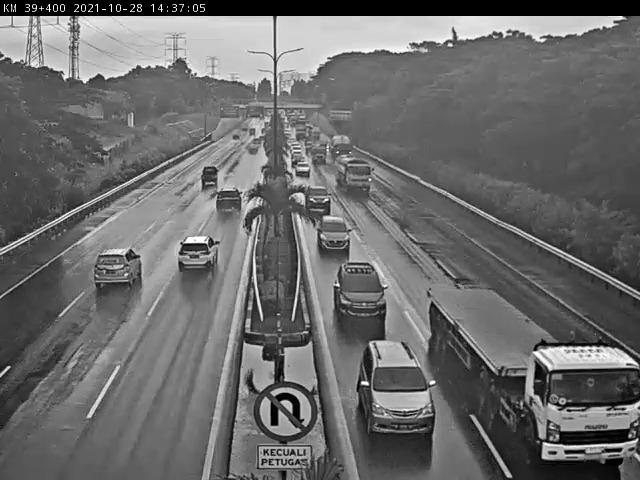big truck: (419, 251, 640, 480), (329, 153, 377, 200), (325, 130, 358, 165)
car: (343, 329, 445, 446), (323, 253, 396, 330), (88, 236, 149, 299), (170, 224, 223, 282), (307, 204, 358, 264), (299, 174, 338, 224), (208, 180, 250, 223), (192, 156, 225, 196), (290, 159, 314, 184)
